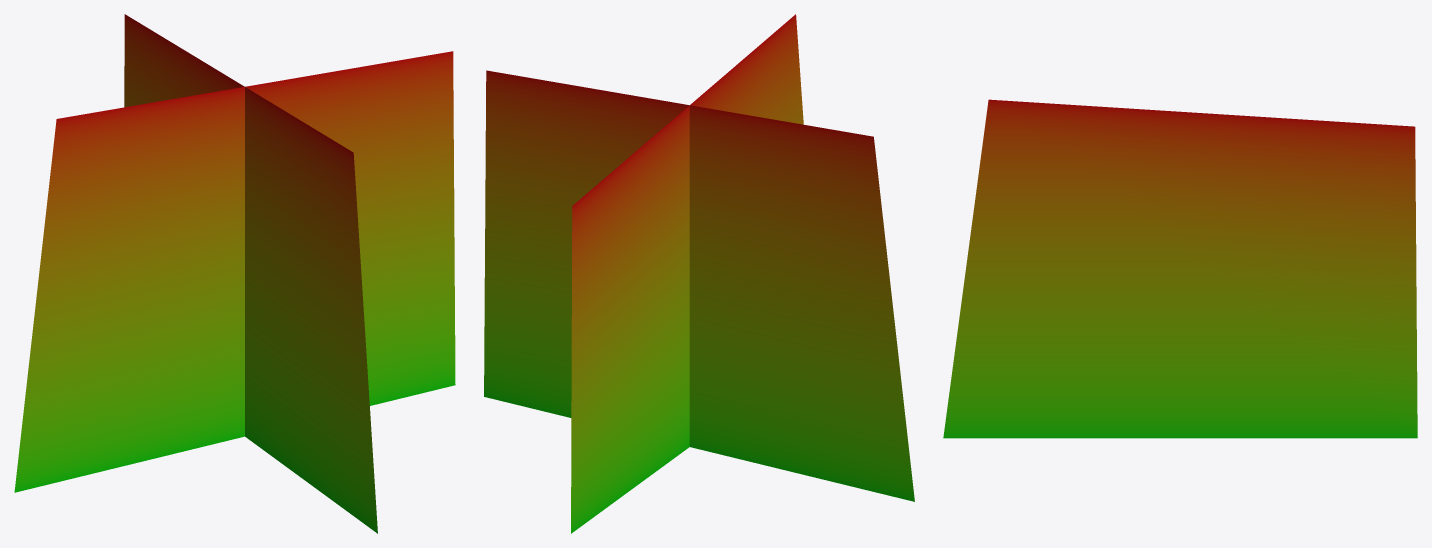
File: Var8_LOD5.fbx
3 renders of one model, left to right at view 1: azimuth 30°, elevation 25°; view 2: azimuth 150°, elevation 25°; view 3: azimuth 270°, elevation 25°, orthographic. The views are drawn at different scales.
Parts seen in each view (by area): view 1: _cm7n_Var8_LOD5; view 2: _cm7n_Var8_LOD5; view 3: _cm7n_Var8_LOD5.
Part boxes in pixels (x1=…): _cm7n_Var8_LOD5: x1=14, y1=14, x2=455, y2=533; _cm7n_Var8_LOD5: x1=484, y1=14, x2=914, y2=533; _cm7n_Var8_LOD5: x1=943, y1=99, x2=1417, y2=438.
Bounding box in the file's own units: 44.73 × 35.23 × 44.73.
